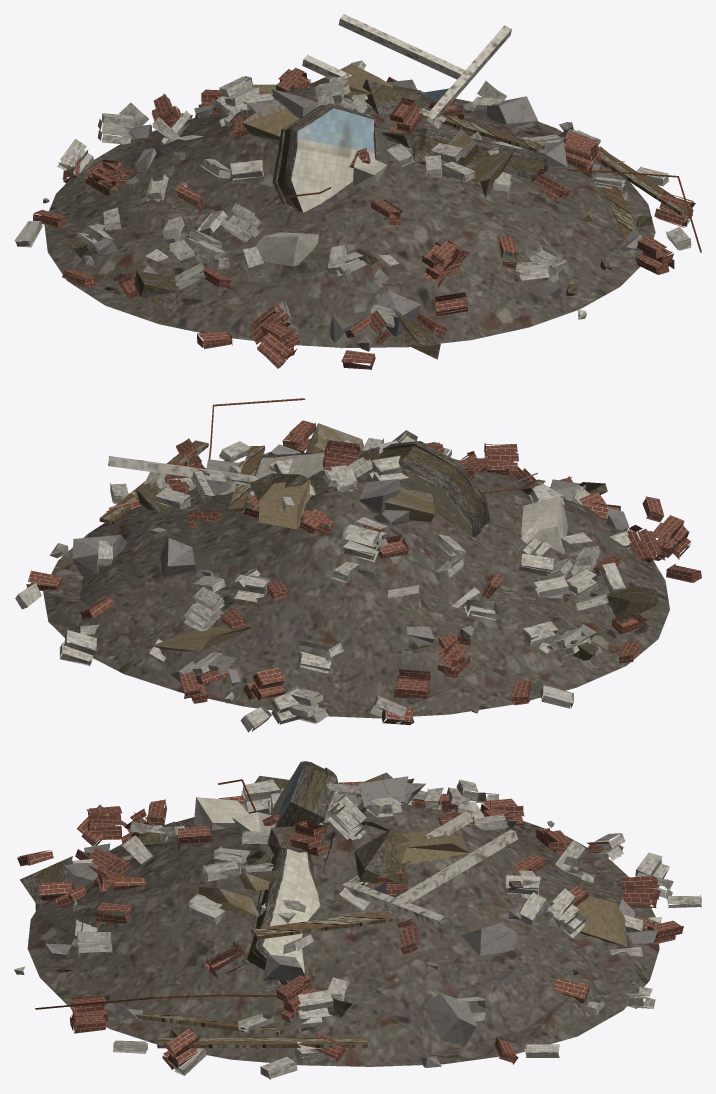
Rendered from rubble_2.glb.
3 views of the same model, one above another, from view 1: azimuth 30°, elevation 25°; view 2: azimuth 150°, elevation 25°; view 3: azimuth 270°, elevation 25° (orthographic). The views are drawn at different scales.
Visible parts, largest first — view 1: rubble_2; view 2: rubble_2; view 3: rubble_2.
Boxes of the visible parts, left/top/right/bottom form: rubble_2: left=14, top=14, right=701, bottom=369; rubble_2: left=15, top=398, right=701, bottom=732; rubble_2: left=14, top=761, right=701, bottom=1079.
Bounding box in the file's own units: 5.25 × 1.38 × 5.28.
Materials: 1 (1 with a texture image).
